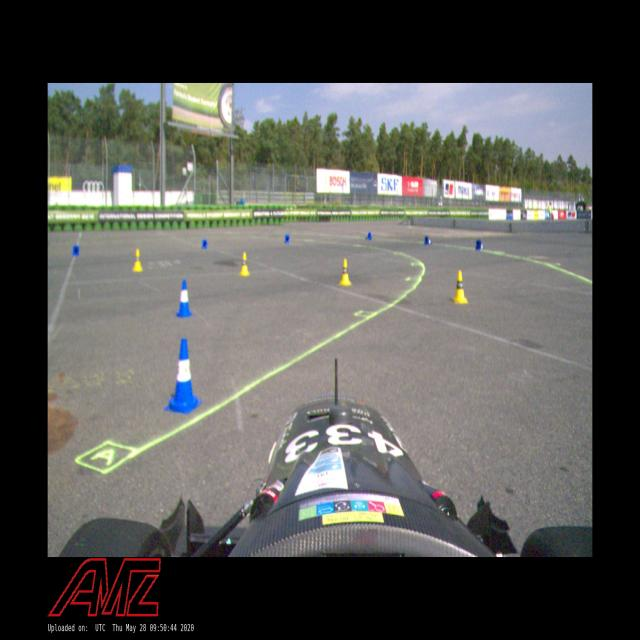blue_cone: (164, 338, 203, 414), (174, 280, 195, 318), (476, 239, 484, 251), (72, 244, 80, 256), (201, 238, 208, 250), (424, 236, 432, 245), (284, 234, 290, 244), (365, 232, 372, 240)
yellow_cone: (453, 269, 468, 305), (338, 259, 352, 286), (238, 251, 250, 277), (132, 249, 143, 272)
